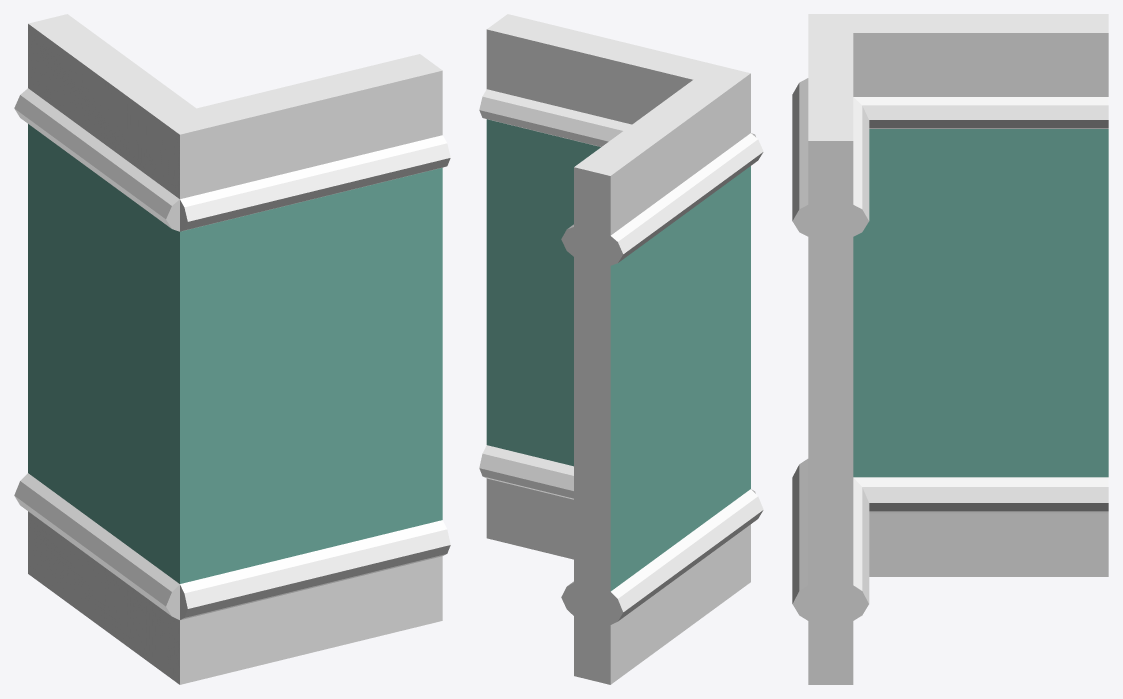
The model's file is FancyCorner.glb.
The picture shows the model from 3 angles, left to right: view 1: azimuth 30°, elevation 25°; view 2: azimuth 150°, elevation 25°; view 3: azimuth 270°, elevation 25°; orthographic projection. The views are drawn at different scales.
Visible parts, largest first — view 1: wall_strip_corner; view 2: wall_strip_corner; view 3: wall_strip_corner.
Part boxes in pixels (left/top/right/bottom): wall_strip_corner: left=14, top=14, right=450, bottom=684; wall_strip_corner: left=479, top=14, right=763, bottom=684; wall_strip_corner: left=792, top=14, right=1108, bottom=684.
Size of what is drawn, in the model's own units: 2.11 by 4 by 2.11.
1 material, 1 textured.
